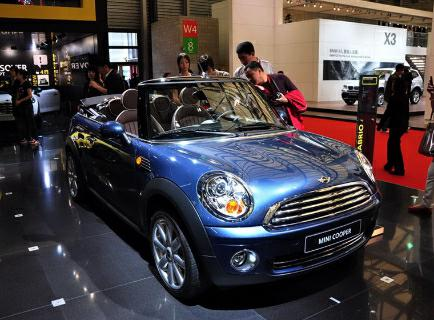MINI: (82, 84, 362, 298)
